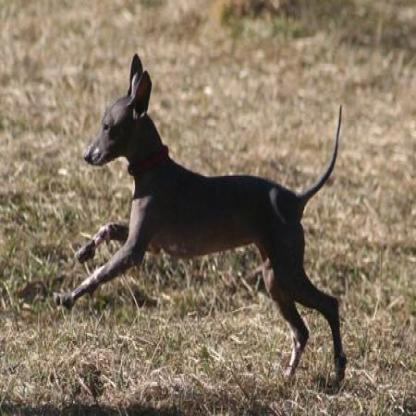Mexican_hairless: (66, 51, 346, 388)
